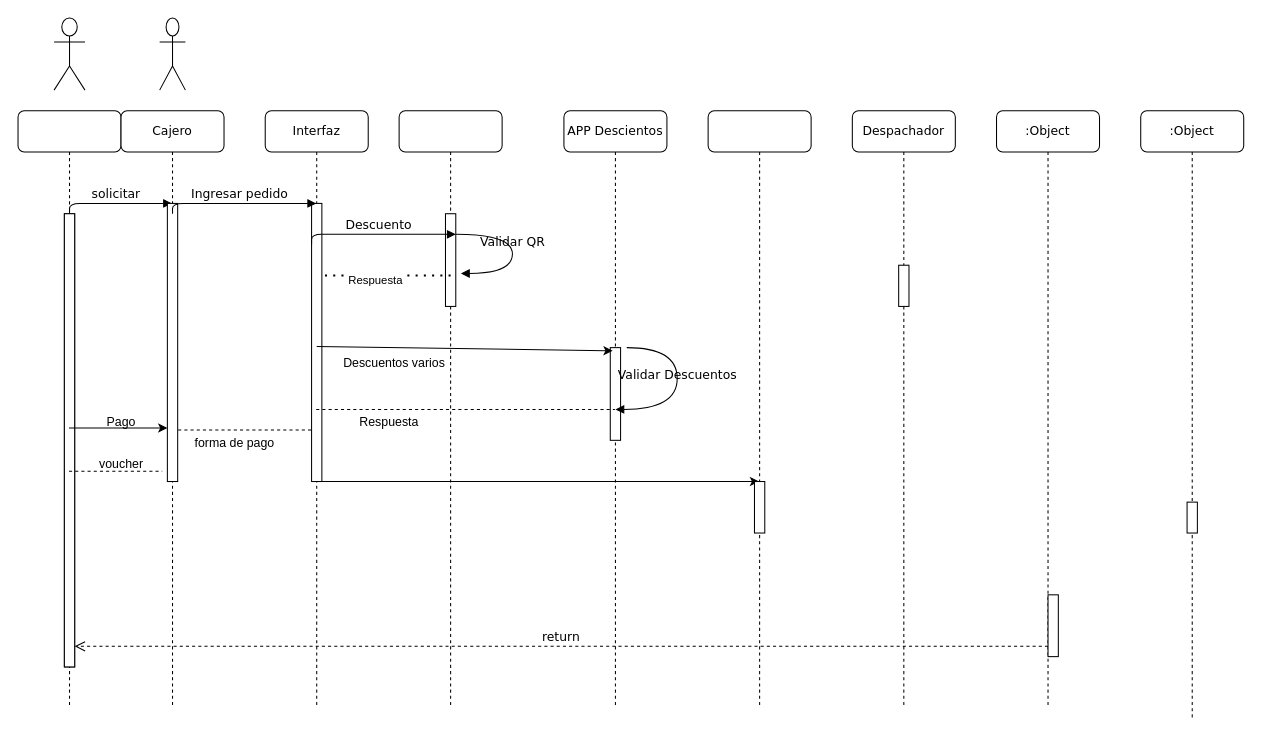
Image size: 1262x736. Some labels were removed from this diagram. Each missing label, with the box of its shape:
APP Mac: (398, 110, 502, 708)
Cliente: (17, 110, 121, 708)
Cocina: (707, 110, 811, 708)
